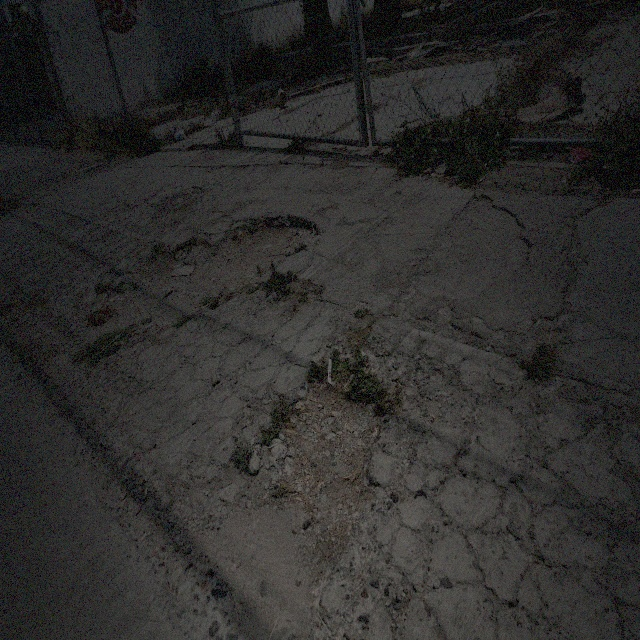pothole: (255, 358, 402, 537), (136, 210, 322, 343), (412, 192, 534, 299), (152, 182, 201, 236)
